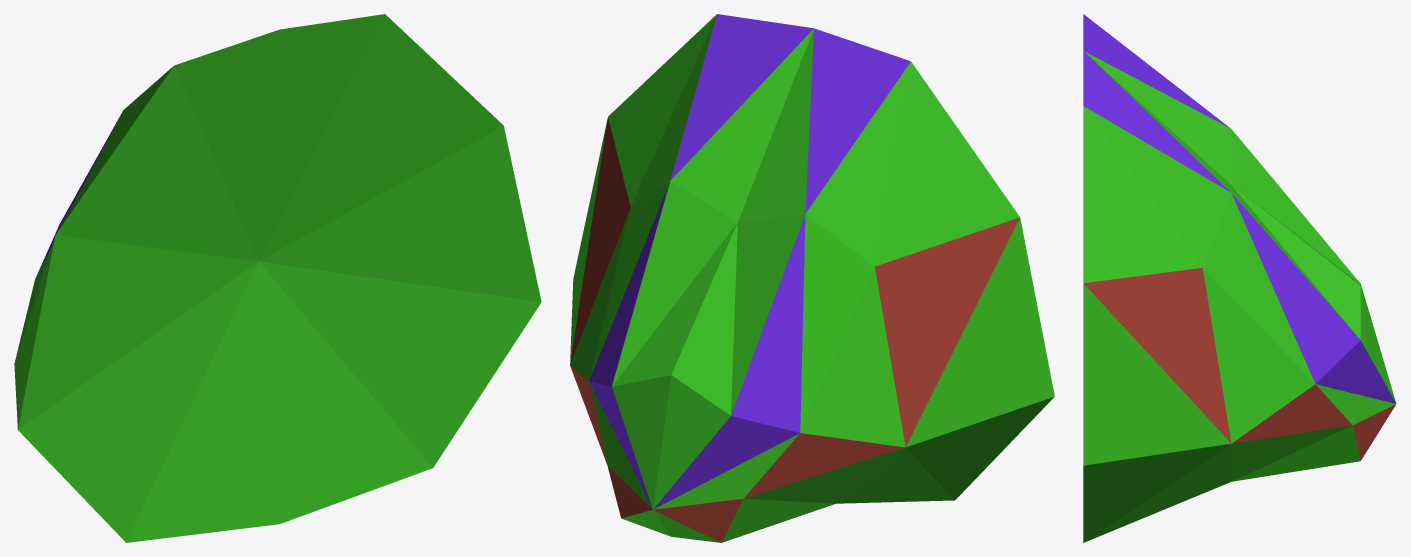
The model's file is cola1.glb.
3 views of the same model, side by side, from view 1: azimuth 30°, elevation 25°; view 2: azimuth 150°, elevation 25°; view 3: azimuth 270°, elevation 25° (orthographic). The views are drawn at different scales.
Visible parts, largest first — view 1: Circle.004; view 2: Circle.004; view 3: Circle.004.
Boxes of the visible parts, x1=… form: Circle.004: x1=14, y1=14, x2=541, y2=542; Circle.004: x1=570, y1=14, x2=1054, y2=542; Circle.004: x1=1083, y1=14, x2=1396, y2=542.
Size of the model in its own units: 2.17 by 1.96 by 1.26.
